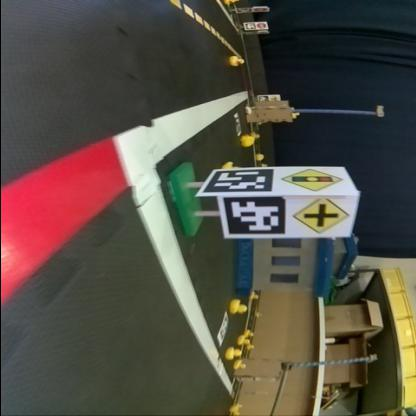Duckie: (224, 346, 242, 359), (240, 135, 255, 147), (230, 300, 244, 312), (230, 55, 245, 65), (238, 335, 249, 344), (234, 360, 245, 368), (246, 329, 254, 336), (251, 292, 259, 298)
Intersection sign: (291, 197, 351, 234)
QR code: (223, 197, 285, 234), (202, 168, 275, 192), (218, 311, 230, 345)
Signal sign: (278, 166, 343, 192)
